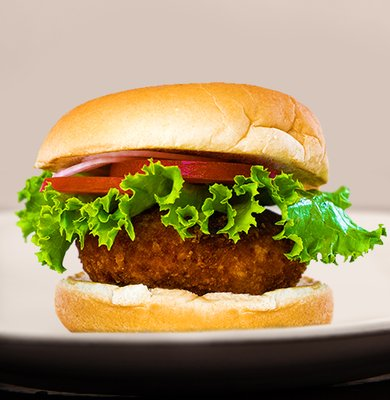soup: (8, 83, 338, 338)
